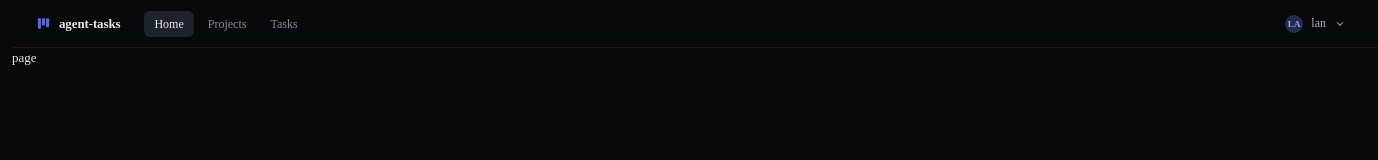
it: AppChrome › a failed team lookup leaves the header without switcher and team entries
This screenshot has width=1378, height=160.
Click the button with aria-label "Account menu for lan" at (1316, 24), box [1277,8,1354,38]
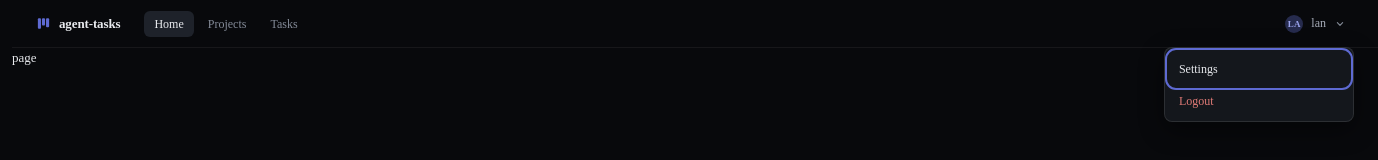
expect the menu items read "Settings", "Logout", in this order: met, box [1179,62,1218,76]; [1169,86,1349,116]
